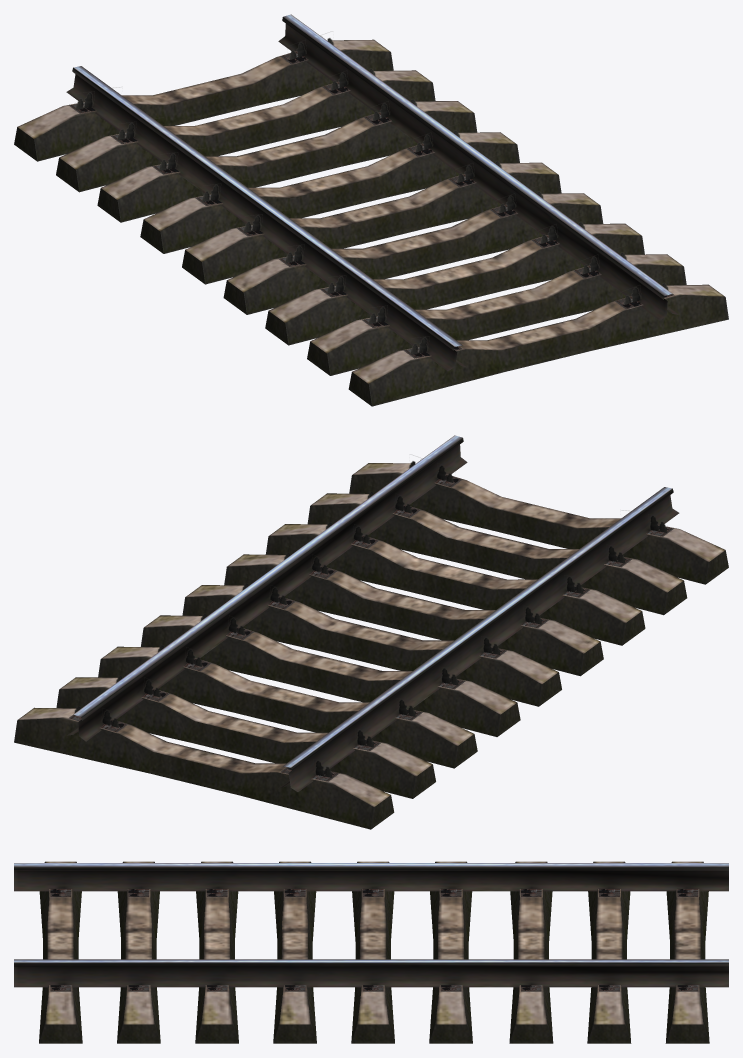
Rendered from 1track_s_4.gltf.
The picture shows the model from 3 angles, top to bottom: view 1: azimuth 30°, elevation 25°; view 2: azimuth 150°, elevation 25°; view 3: azimuth 270°, elevation 25°; orthographic projection. The views are drawn at different scales.
Bounding box in the file's own units: 2.7 × 0.3796 × 5.
1 material, 1 textured.
